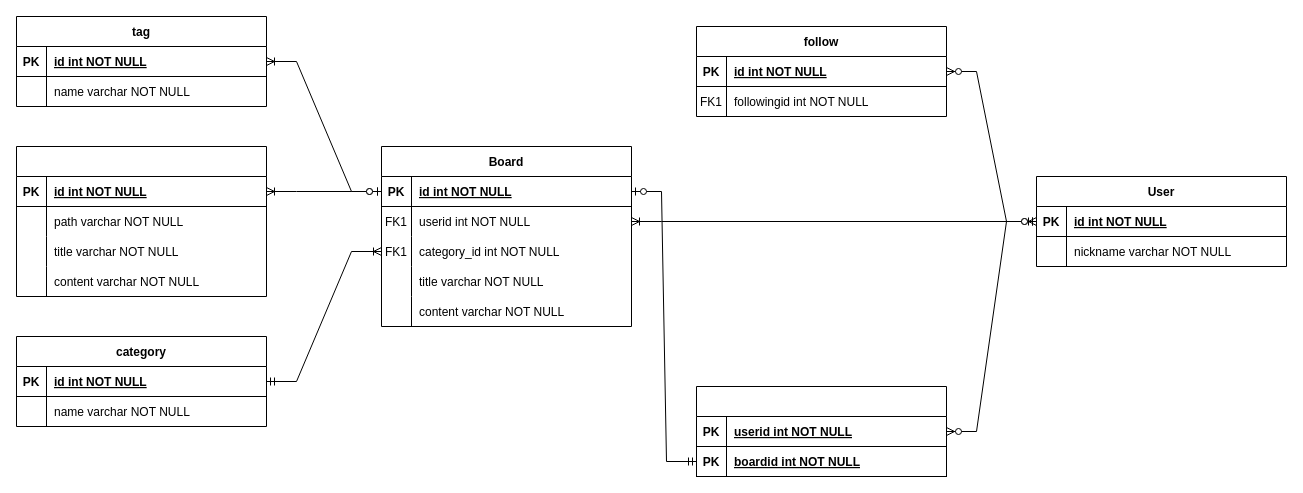
The diagram is 1303 pixels wide and 493 high, and some of its shapes have lost their labels. The box of each missing label's shape, as (x1, y1, x2, y2) in pixels:
image: (16, 146, 266, 296)
like: (696, 386, 946, 476)
